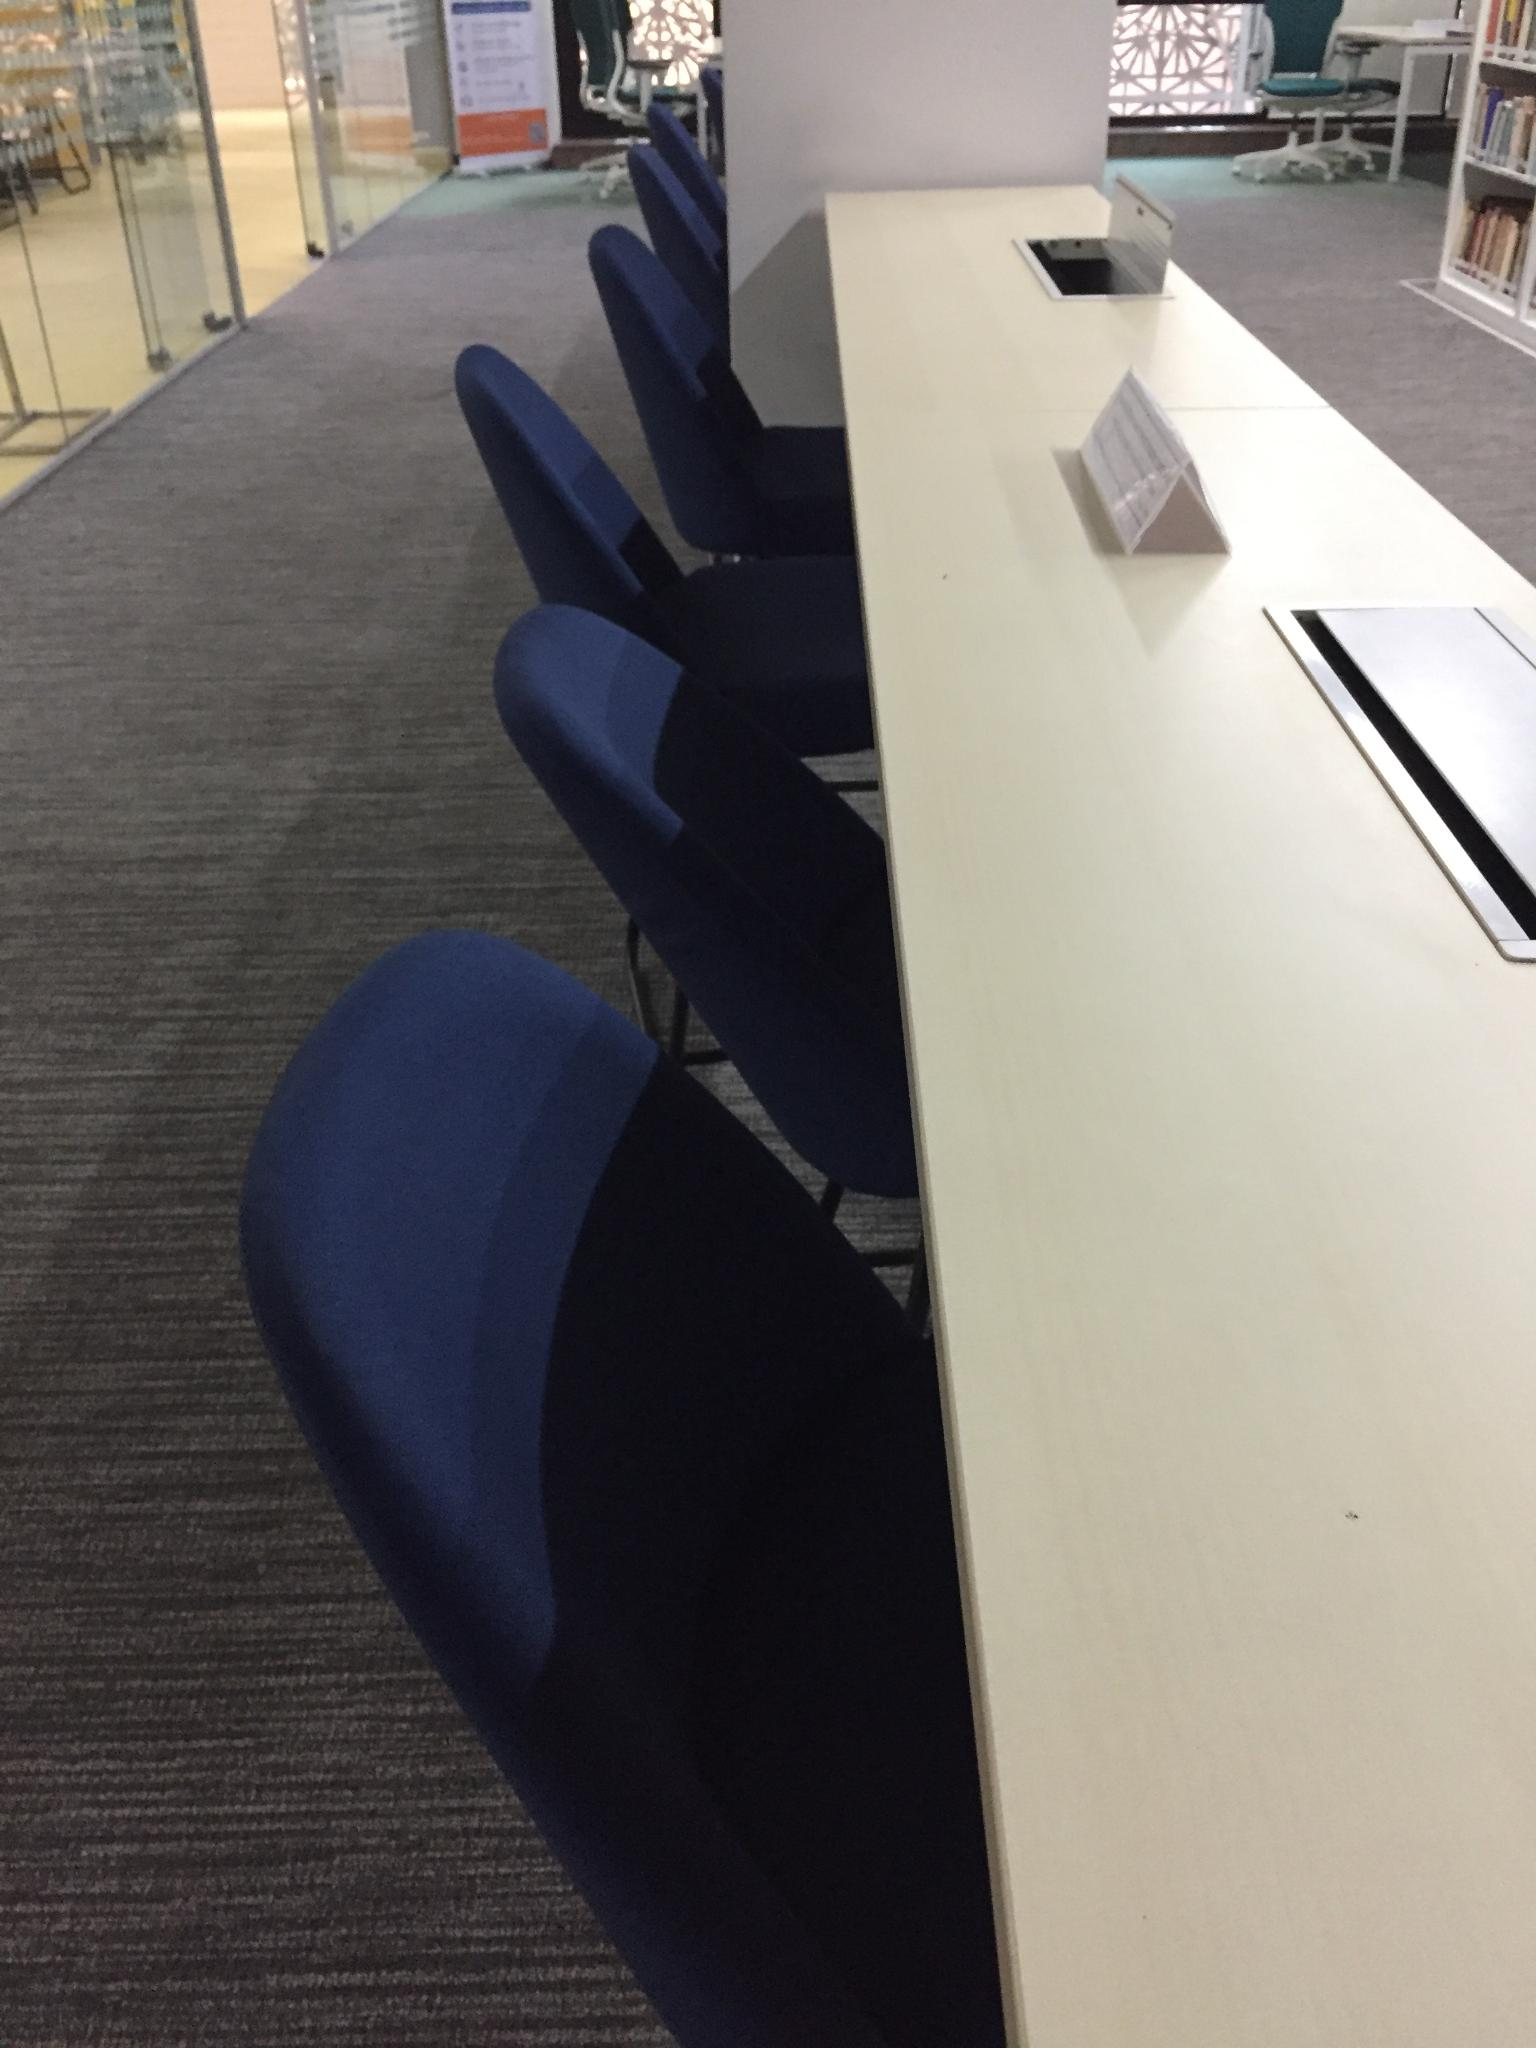chair: (237, 924, 1008, 2045), (490, 601, 928, 1337), (466, 334, 891, 826), (586, 223, 854, 561), (555, 0, 744, 184), (1231, 0, 1394, 190)
